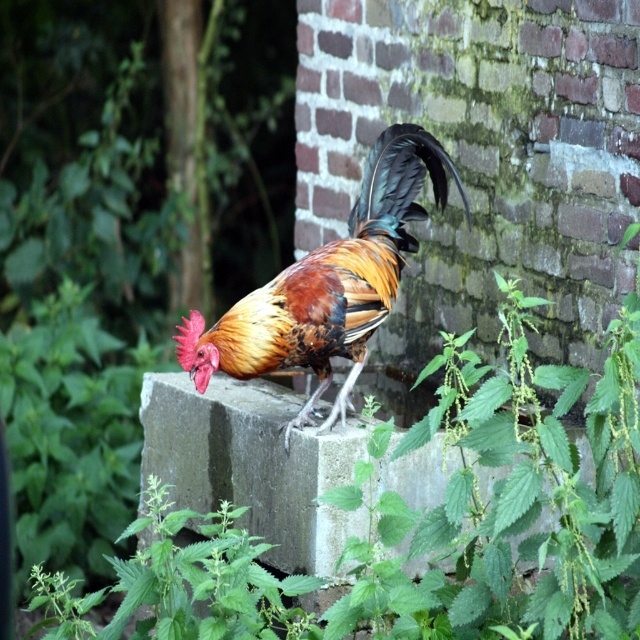Chicken: (171, 124, 478, 452)
